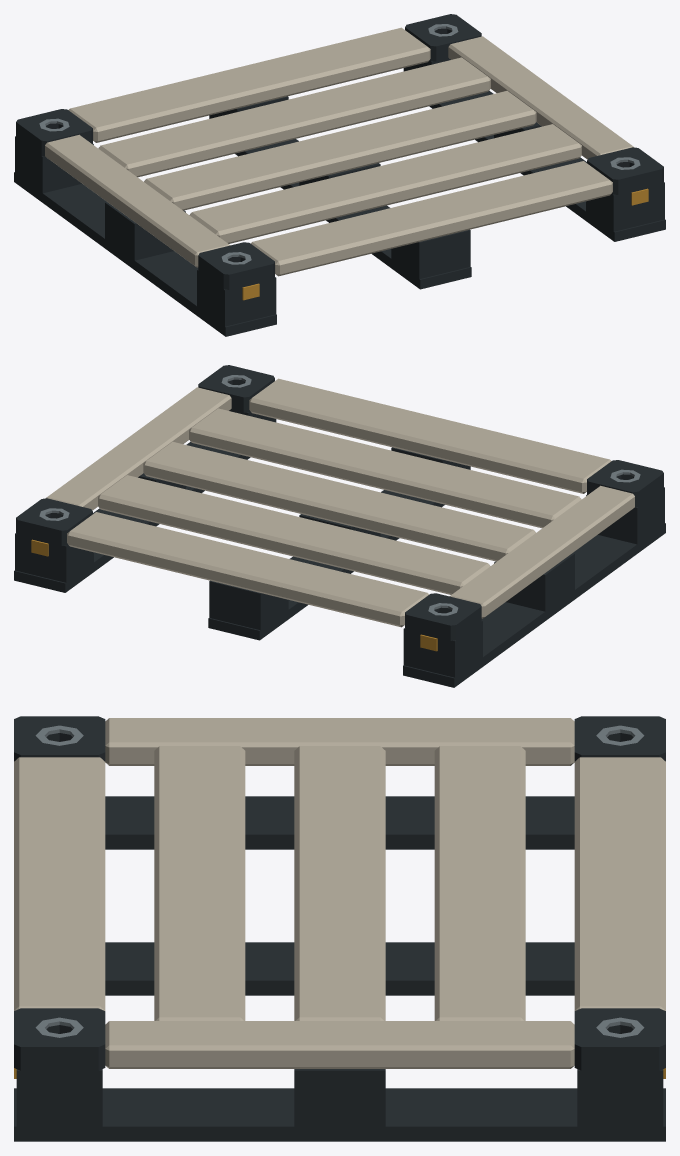
Rendered from pallet_d0_lod1.glb.
3 views of the same model, one above another, from view 1: azimuth 30°, elevation 25°; view 2: azimuth 150°, elevation 25°; view 3: azimuth 270°, elevation 25° (orthographic). The views are drawn at different scales.
Visible parts, largest first — view 1: PALLET_SURFACE; view 2: PALLET_SURFACE; view 3: PALLET_SURFACE.
Boxes of the visible parts, left/top/right/bottom form: PALLET_SURFACE: left=14, top=14, right=665, bottom=336; PALLET_SURFACE: left=14, top=365, right=665, bottom=687; PALLET_SURFACE: left=14, top=716, right=665, bottom=1141.
Size of the model in its own units: 1.2 by 0.16 by 1.
